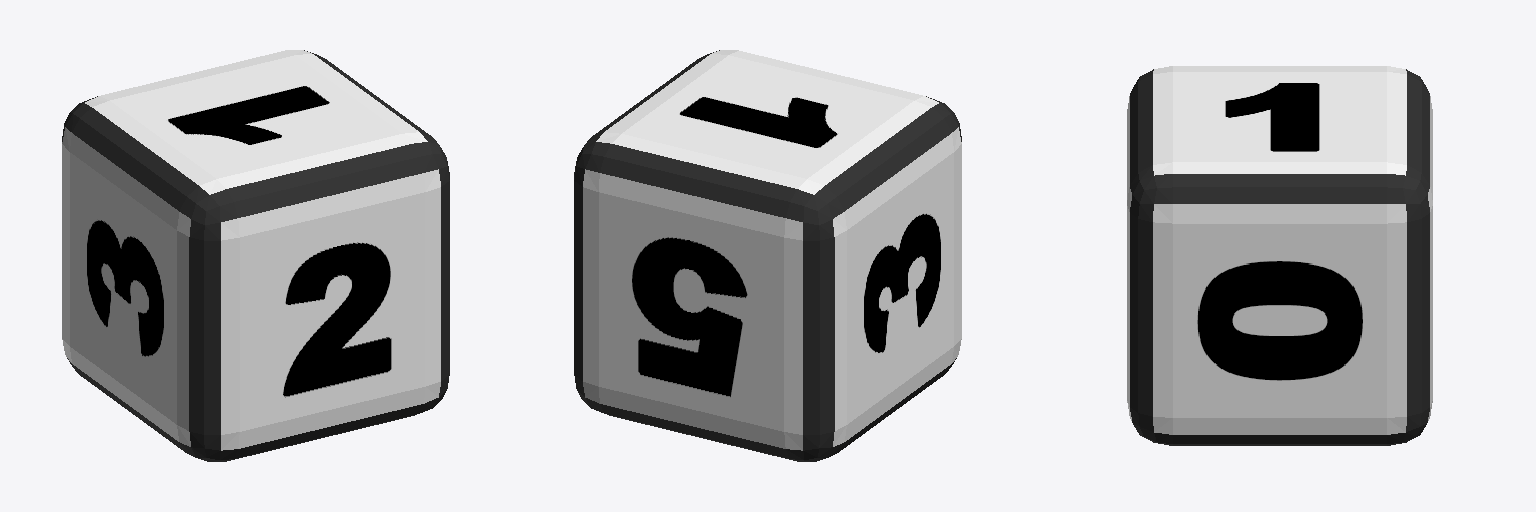
3 renders of one model, left to right at view 1: azimuth 30°, elevation 25°; view 2: azimuth 150°, elevation 25°; view 3: azimuth 270°, elevation 25°, orthographic.
Visible parts, largest first — view 1: SC; view 2: SC; view 3: SC.
Boxes of the visible parts, <box> form: SC: <box>62,50,449,461</box>; SC: <box>574,50,961,461</box>; SC: <box>1127,66,1432,445</box>.
Bounding box in the file's own units: 10 × 10 × 10.
Materials: 2 (1 with a texture image).